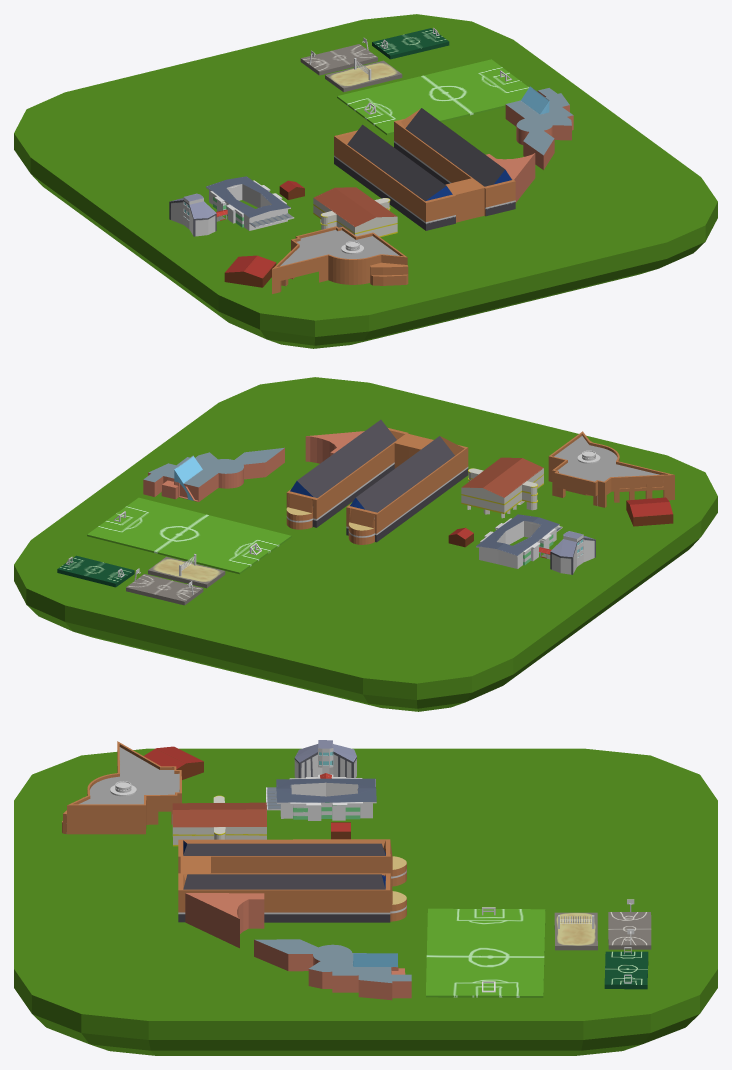
Rendered from mapa3d.glb.
3 views of the same model, one above another, from view 1: azimuth 30°, elevation 25°; view 2: azimuth 150°, elevation 25°; view 3: azimuth 270°, elevation 25° (orthographic). The views are drawn at different scales.
Parts seen in each view (by area): view 1: suelo flotante, Plane.005, Plane.008, entrada y biblio, Plane.001, cafeteria, Plane.002, Plane.014, Plane.011, Plane.009, Plane.010, caseta 1 (+1 smaller); view 2: suelo flotante, Plane.005, Plane.008, entrada y biblio, Plane.001, cafeteria, Plane.002, Plane.014, Plane.011, Plane.009, Plane.010, caseta 1 (+1 smaller); view 3: suelo flotante, Plane.005, Plane.008, entrada y biblio, Plane.001, Plane.002, cafeteria, Plane.006, Plane.014, Plane.011, Plane.009, Plane.010 (+1 smaller).
Part boxes in pixels (<box>): suelo flotante: <box>14,14,717,348</box>; Plane.005: <box>334,108,515,230</box>; Plane.008: <box>337,59,528,134</box>; entrada y biblio: <box>272,226,408,293</box>; Plane.001: <box>505,86,573,169</box>; cafeteria: <box>313,187,397,237</box>; Plane.002: <box>206,176,294,230</box>; Plane.014: <box>169,193,216,236</box>; Plane.011: <box>372,28,449,59</box>; Plane.009: <box>300,44,377,75</box>; Plane.010: <box>325,60,402,92</box>; caseta 1: <box>224,255,276,287</box>; suelo flotante: <box>14,377,717,711</box>; Plane.005: <box>286,419,468,544</box>; Plane.008: <box>87,497,291,574</box>; entrada y biblio: <box>548,431,674,507</box>; Plane.001: <box>143,447,284,501</box>; cafeteria: <box>461,457,543,518</box>; Plane.002: <box>476,514,562,568</box>; Plane.014: <box>550,531,595,574</box>; Plane.011: <box>57,555,134,587</box>; Plane.009: <box>126,574,203,605</box>; Plane.010: <box>148,556,225,588</box>; caseta 1: <box>626,497,673,526</box>; suelo flotante: <box>14,748,717,1055</box>; Plane.005: <box>178,839,406,922</box>; Plane.008: <box>426,908,545,997</box>; entrada y biblio: <box>62,741,181,834</box>; Plane.001: <box>254,939,411,1000</box>; Plane.002: <box>266,777,376,820</box>; cafeteria: <box>172,795,266,846</box>; Plane.006: <box>185,893,264,948</box>; Plane.014: <box>294,740,356,778</box>; Plane.011: <box>604,951,648,989</box>; Plane.009: <box>608,912,651,949</box>; Plane.010: <box>554,912,597,950</box>.
Size of the model in its own units: 12.17 by 2.45 by 13.28.
15 materials, 15 textured.
